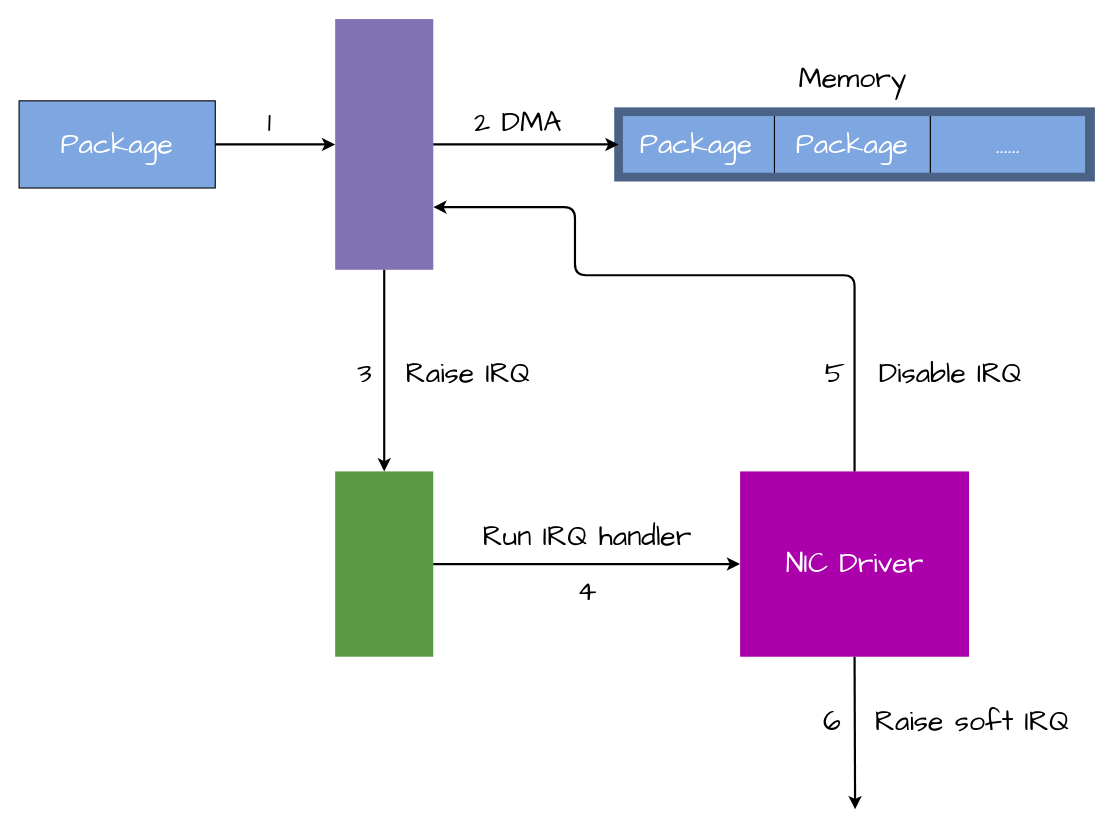
The diagram is 1114 pixels wide and 837 high, and some of its shapes have lost their labels. The centre of each missing label's shape, as x and y in pixels:
"CPU" goes at point (384, 563).
"NIC" goes at point (384, 144).
